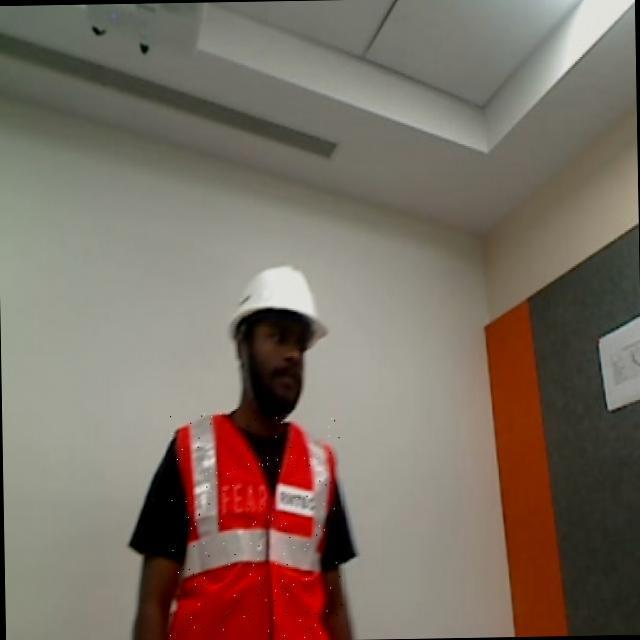helmet: (223, 257, 335, 365)
vest: (165, 408, 345, 640)
